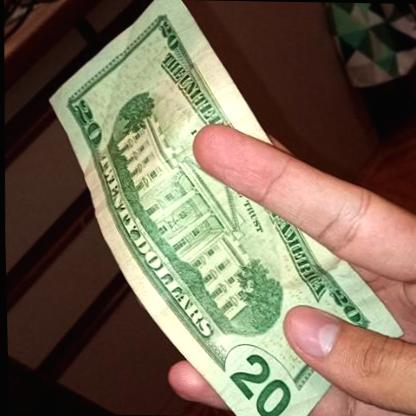dollar_back: (36, 0, 407, 416)
